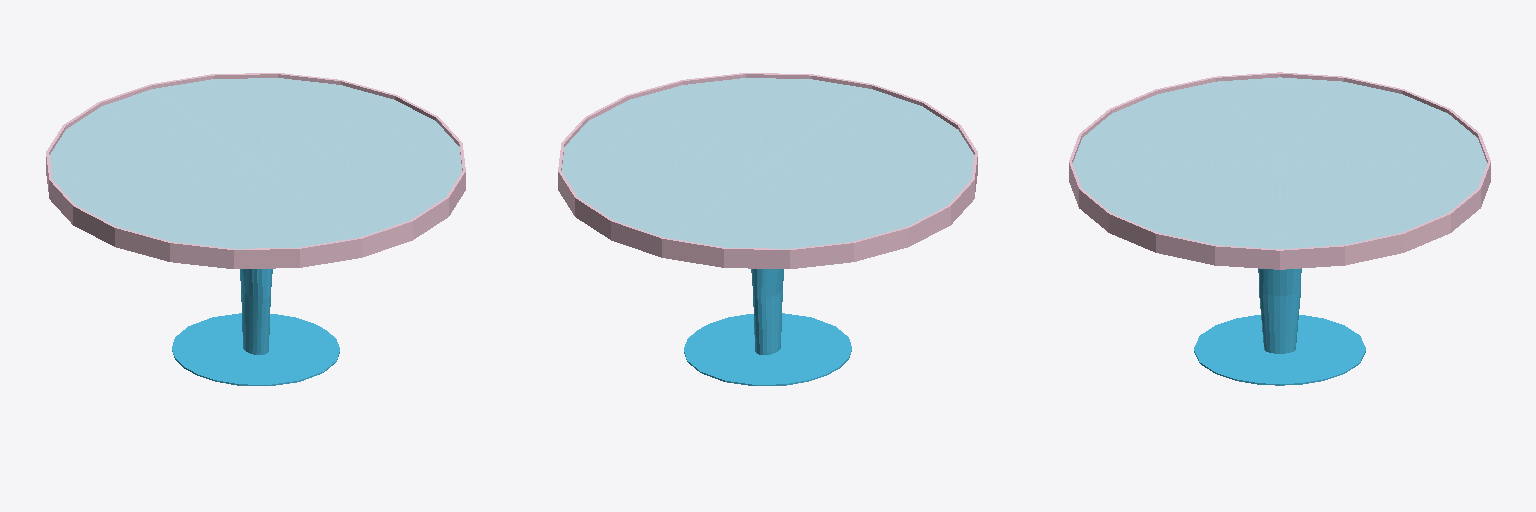
The picture shows the model from 3 angles: view 1: azimuth 30°, elevation 25°; view 2: azimuth 150°, elevation 25°; view 3: azimuth 270°, elevation 25°; orthographic projection.
Visible parts, largest first — view 1: pCylinder1; view 2: pCylinder1; view 3: pCylinder1.
Boxes of the visible parts, x1,y1,x2,y2 form: pCylinder1: [46, 73, 465, 385]; pCylinder1: [558, 73, 977, 385]; pCylinder1: [1069, 72, 1490, 385].
Bounding box in the file's own units: 6.56 × 3.24 × 6.56.
Materials: 1 (1 with a texture image).